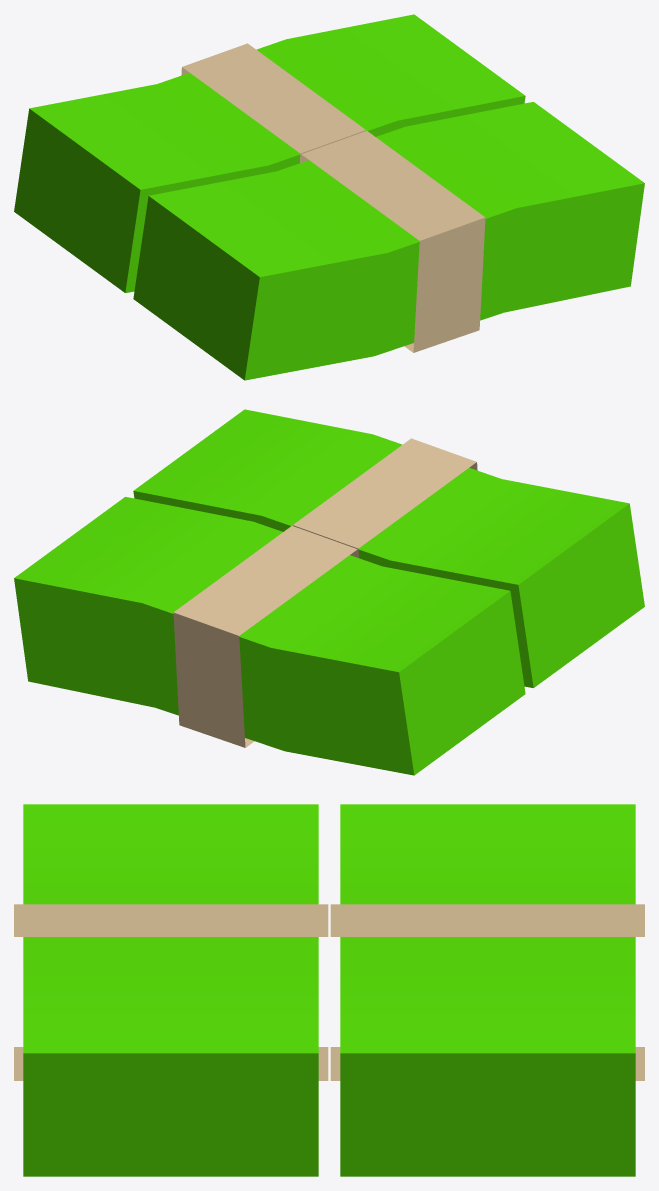
File: Dollars.fbx
The picture shows the model from 3 angles, top to bottom: view 1: azimuth 30°, elevation 25°; view 2: azimuth 150°, elevation 25°; view 3: azimuth 270°, elevation 25°; orthographic projection. The views are drawn at different scales.
Visible parts, largest first — view 1: Dollar, Dollar.001; view 2: Dollar.001, Dollar; view 3: Dollar, Dollar.001.
Part boxes in pixels (x1,y1,x2,y2): Dollar: [133, 102, 644, 380]; Dollar.001: [14, 14, 525, 292]; Dollar.001: [14, 497, 525, 775]; Dollar: [133, 409, 644, 687]; Dollar: [14, 804, 328, 1176]; Dollar.001: [330, 804, 644, 1176].
Bounding box in the file's own units: 0.8305 × 0.2341 × 0.8546.
